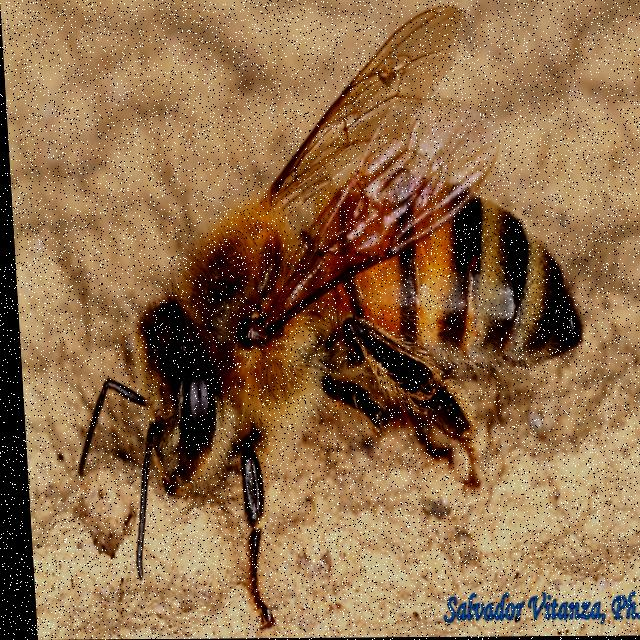Apis-mellifera-scutellata: (58, 0, 593, 611)
